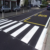zebra: (1, 19, 47, 50)
